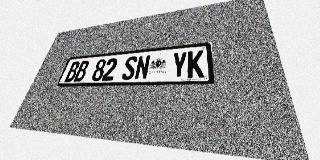2: (101, 58, 118, 81)
8: (91, 59, 108, 81)
B: (73, 60, 90, 82), (64, 61, 81, 82)
K: (187, 50, 204, 78)
N: (134, 55, 151, 80)
S: (121, 56, 138, 80)
Y: (171, 51, 187, 79)
